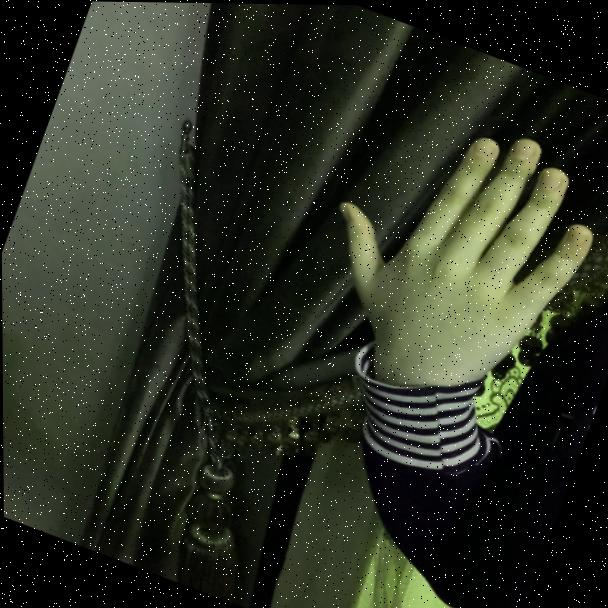five: (253, 55, 608, 455)
